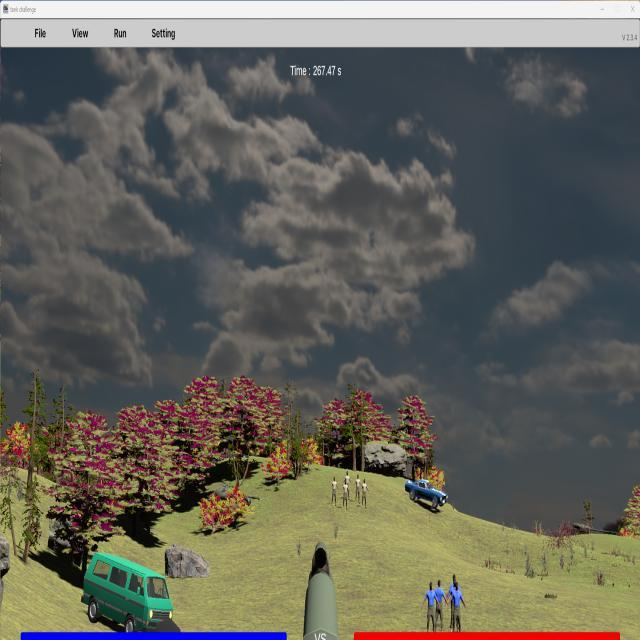Human: (421, 580, 441, 636), (448, 580, 466, 639), (432, 578, 448, 633)
car: (82, 552, 173, 636), (405, 478, 447, 509)
